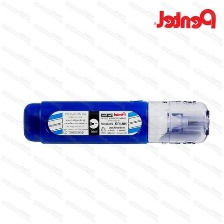correction_fluid: (20, 98, 213, 148)
